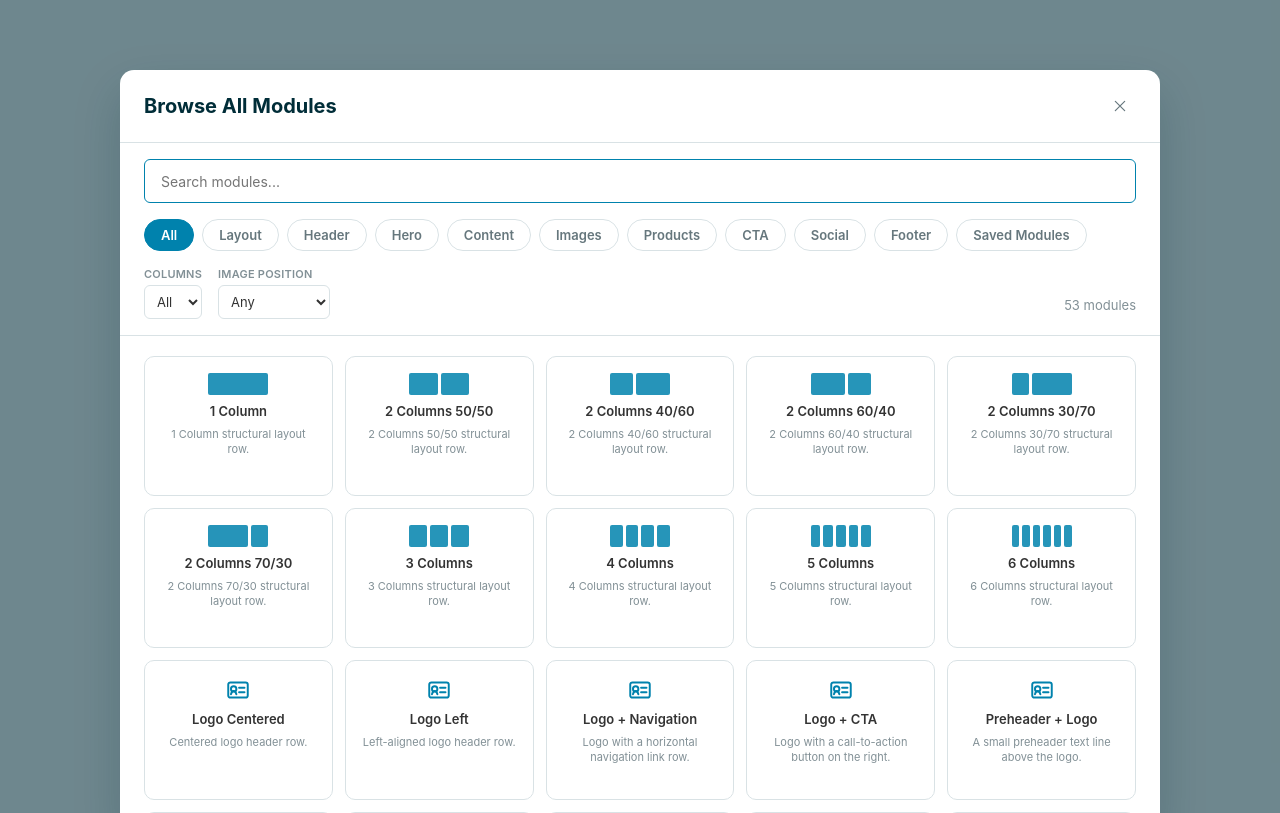
Test: ModuleLibraryModal › filters by category tab
The image size is (1280, 813).
Click the tab "Footer": (911, 235) top-left (874, 219), bottom-right (948, 251)
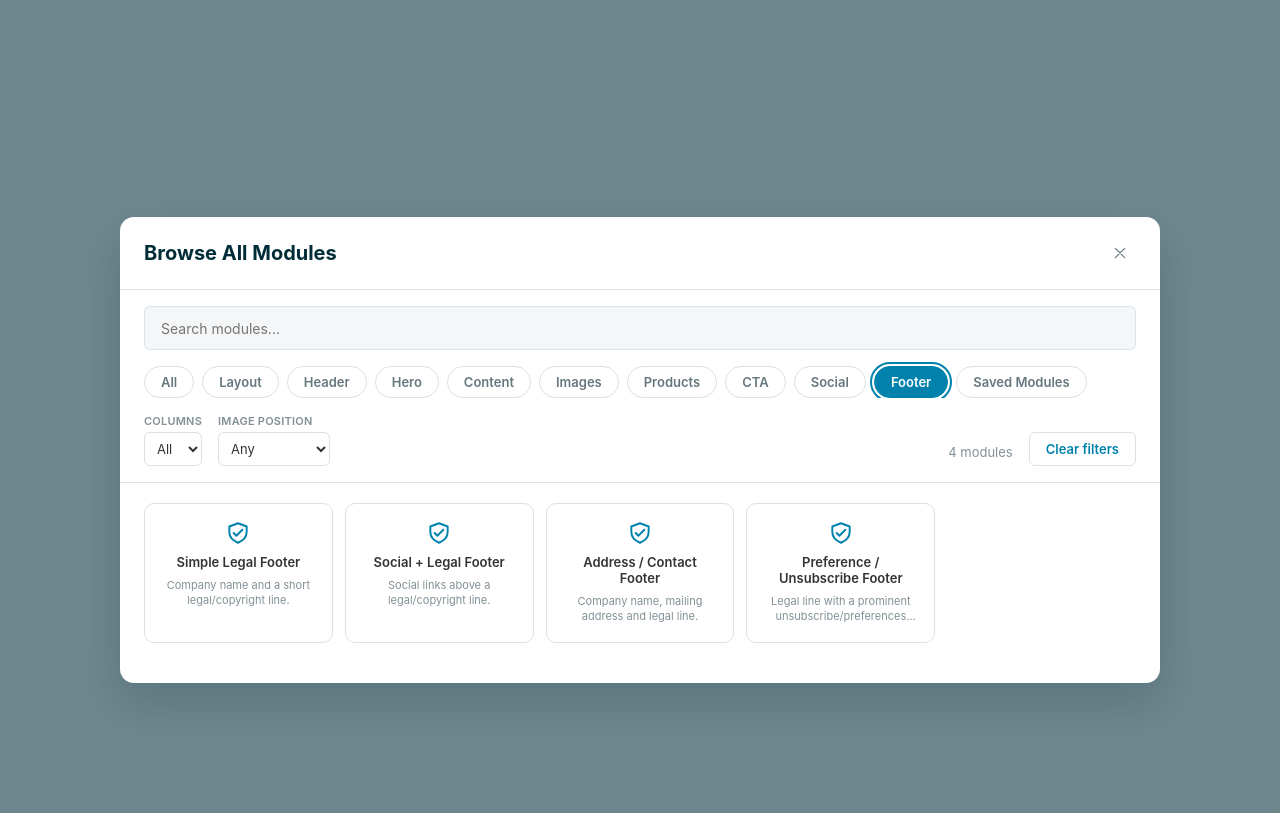
Check: the button with aria-label "Add Simple Legal Footer" is shown, box top-left (144, 503), bottom-right (333, 643)
